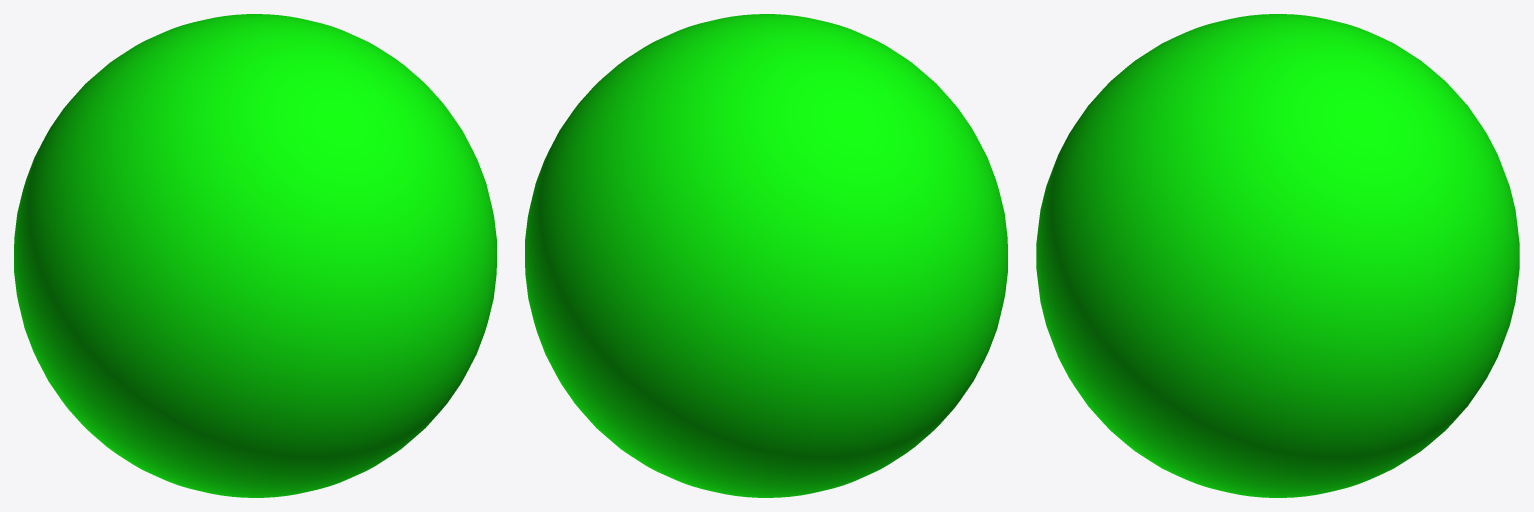
File: Laser2.obj
3 views of the same model, side by side, from view 1: azimuth 30°, elevation 25°; view 2: azimuth 150°, elevation 25°; view 3: azimuth 270°, elevation 25° (orthographic).
Visible parts, largest first — view 1: Sphere001; view 2: Sphere001; view 3: Sphere001.
Part boxes in pixels (x1,y1,x2,y2): Sphere001: (14,14,496,497); Sphere001: (525,14,1007,497); Sphere001: (1036,14,1519,497).
Size of the model in its own units: 6.83 by 6.86 by 6.84.
